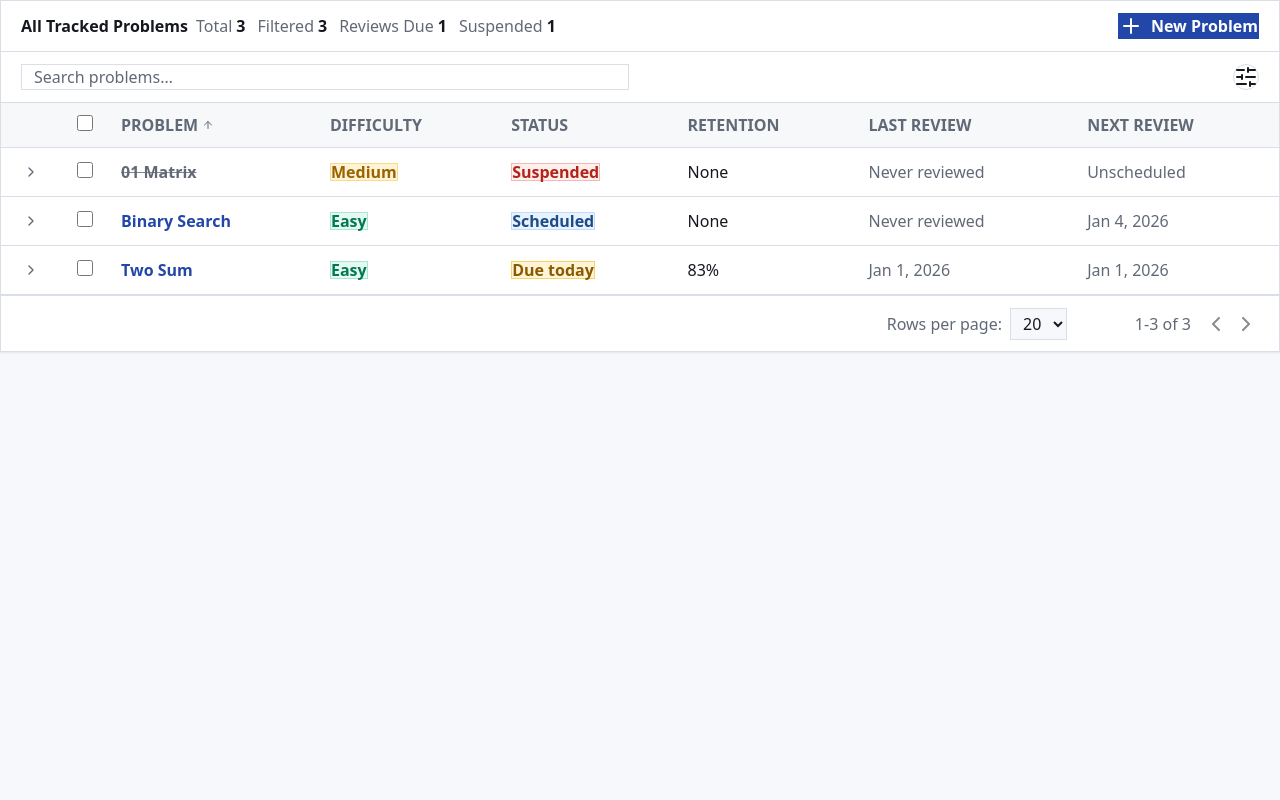
Test case: ProblemLibraryScreen › hides premium and suspended rows from switch filters
expect the row "01 Matrix Medium Suspended None Never reviewed Unscheduled" is shown: met, box [1, 148, 1279, 196]
Click the button named "Expand filters" at [1246, 77], box [1233, 64, 1259, 90]
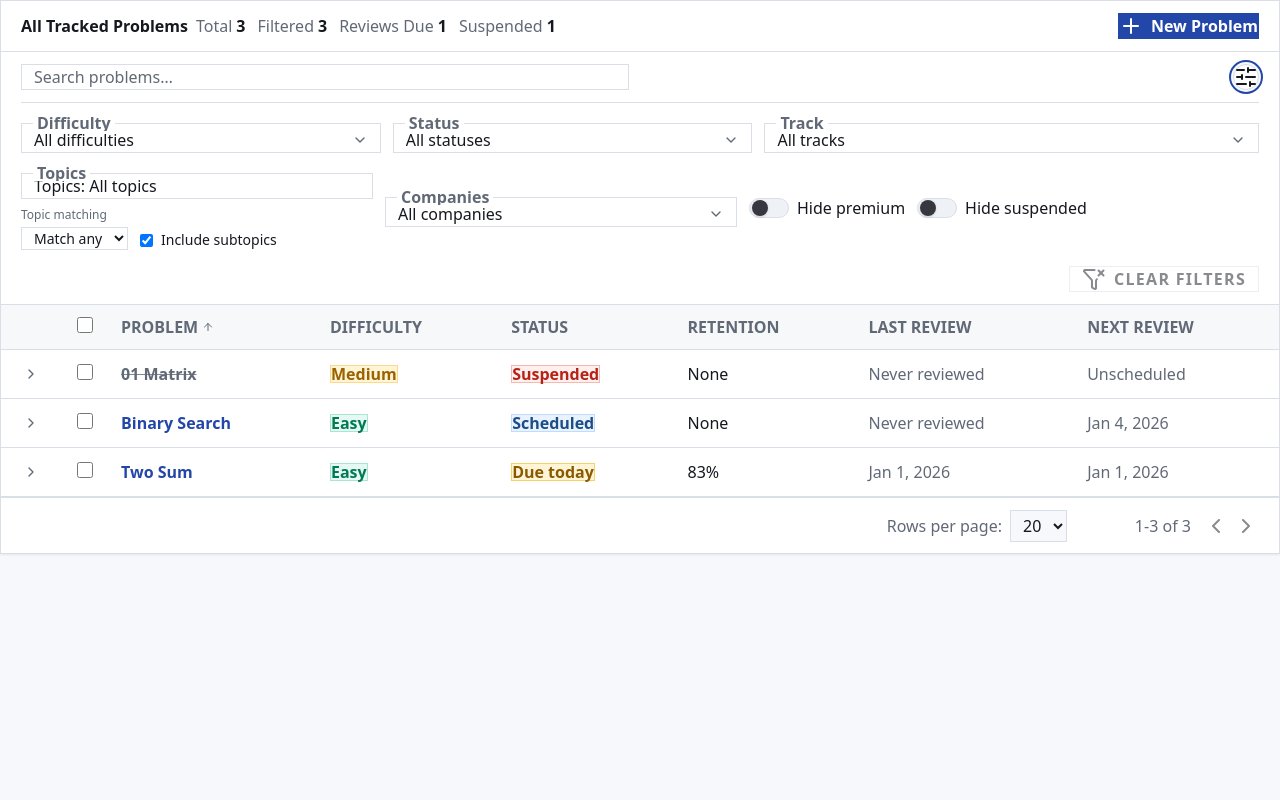
Click the switch labelled "Hide premium" at [827, 208], box [749, 196, 905, 220]
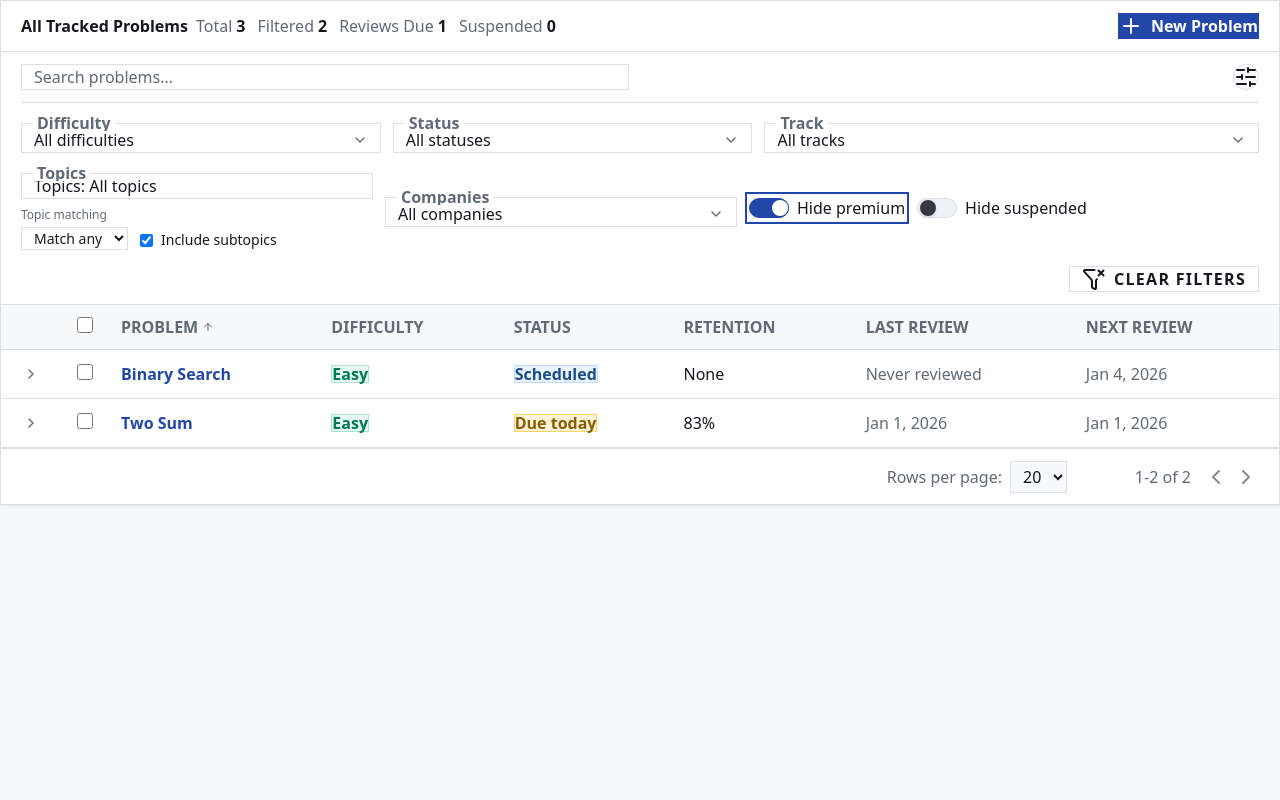
expect the link "01 Matrix" is gone: met
Click the switch labelled "Hide premium" at [827, 208], box [749, 196, 905, 220]
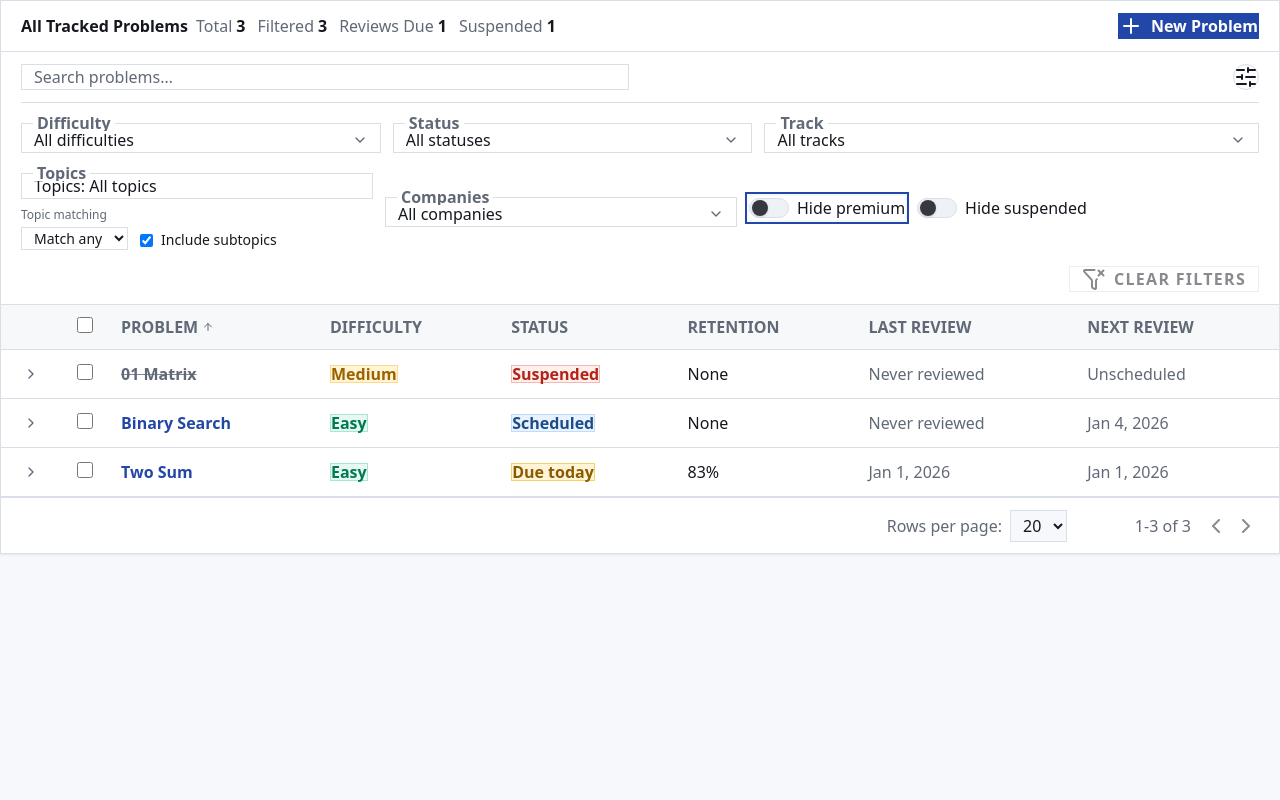
expect the row "01 Matrix Medium Suspended None Never reviewed Unscheduled" is shown: met, box [1, 350, 1279, 398]
Click the switch labelled "Hide suspended" at [1002, 208], box [917, 196, 1087, 220]
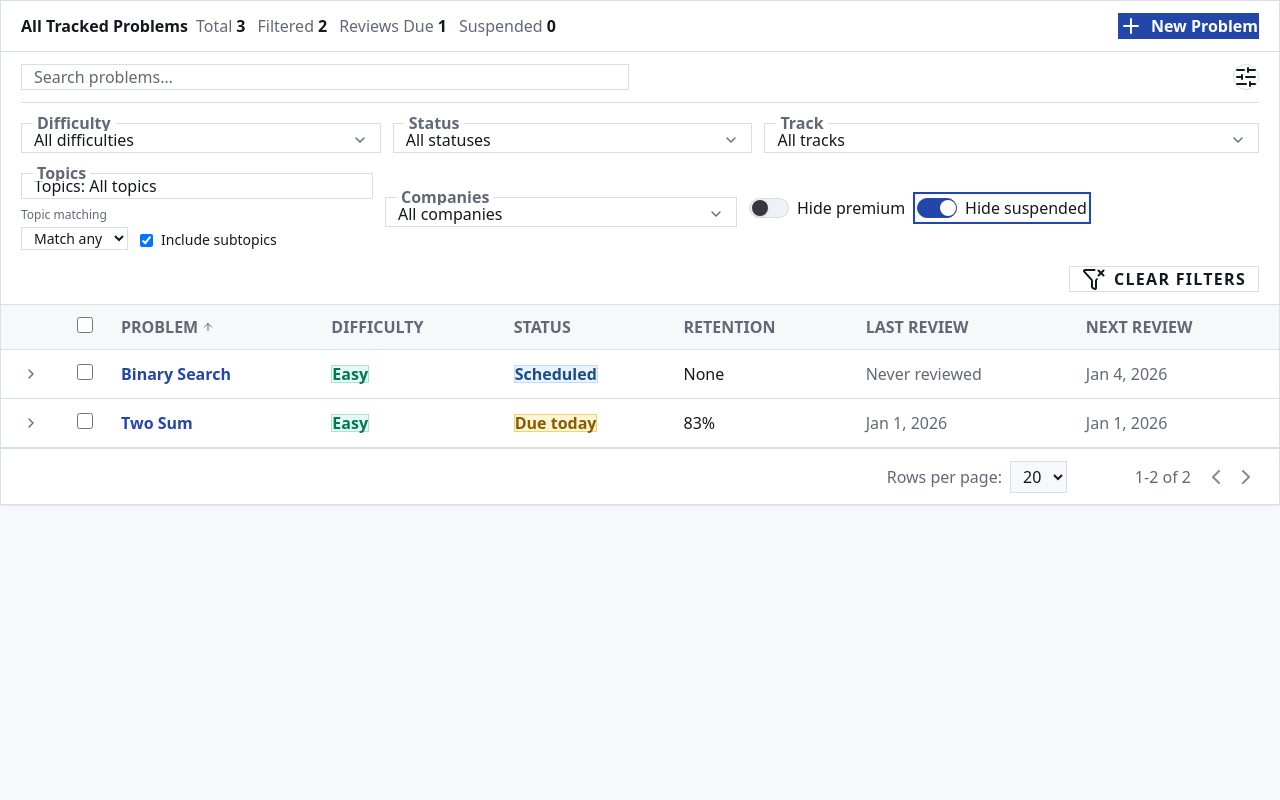
expect the link "01 Matrix" is gone: met
